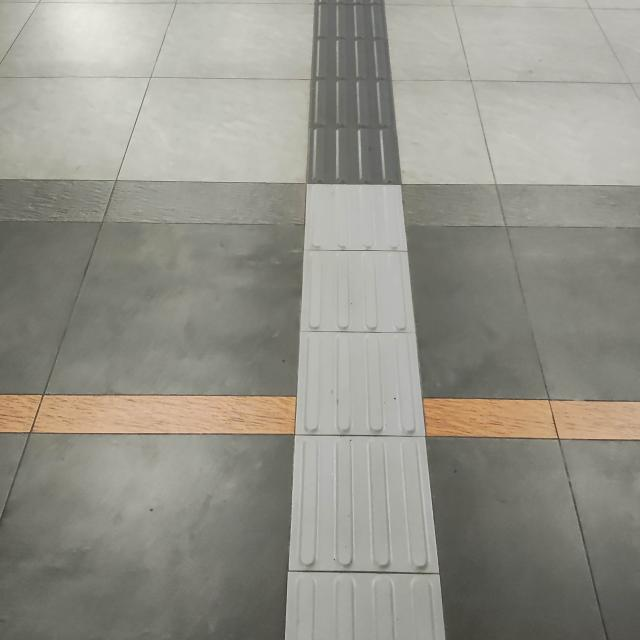lurus: (297, 0, 431, 640)
